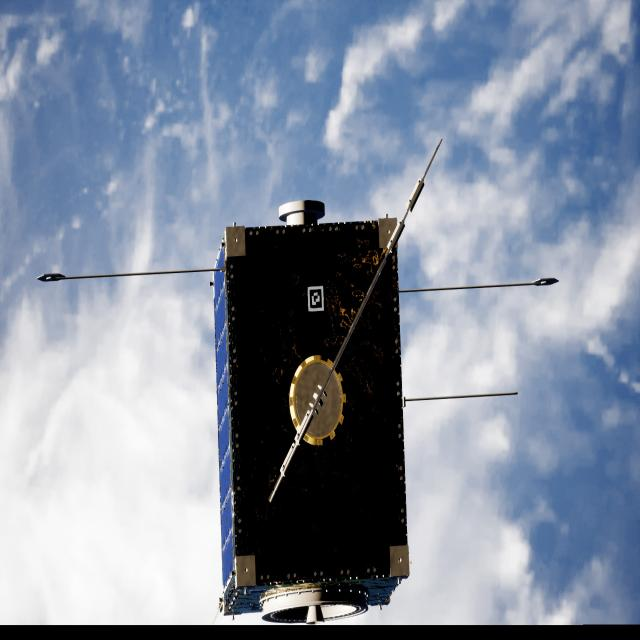satellite: (213, 202, 410, 623)
